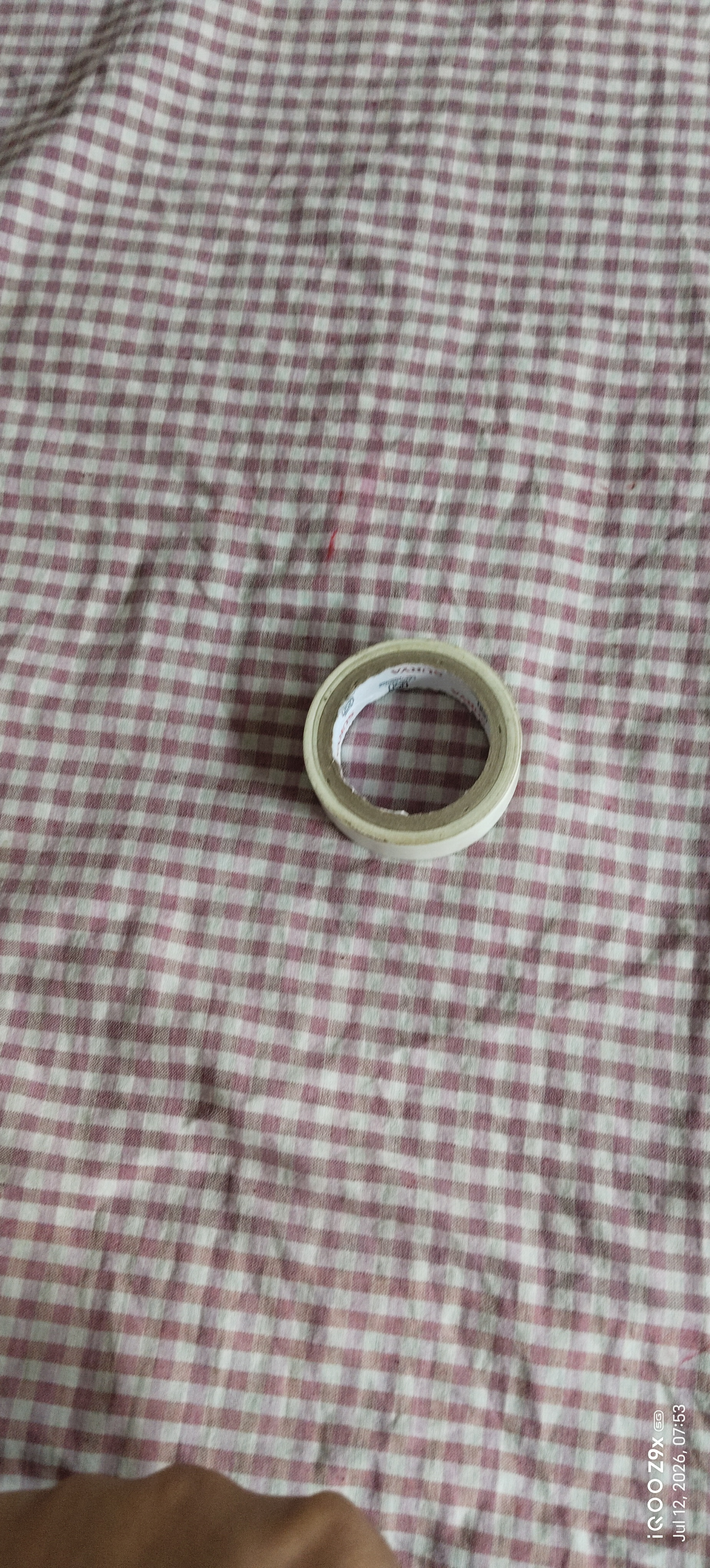tape_roll: (293, 612, 542, 901)
